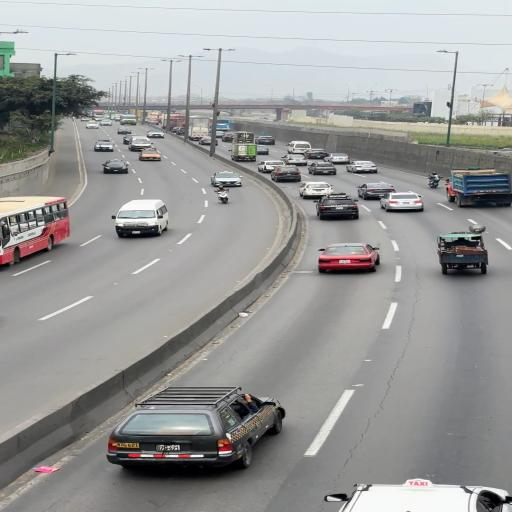auto: (101, 389, 275, 472), (328, 479, 510, 511), (316, 243, 380, 272), (315, 195, 359, 220), (378, 192, 424, 212), (356, 182, 395, 200), (210, 170, 243, 188), (298, 182, 334, 198), (271, 165, 302, 182), (101, 158, 129, 174), (306, 162, 337, 176), (346, 160, 378, 173), (286, 140, 311, 154), (129, 138, 153, 152), (282, 154, 310, 166), (258, 160, 282, 172), (325, 153, 350, 164), (138, 150, 162, 161), (305, 149, 330, 159), (94, 140, 114, 151), (146, 129, 165, 137), (256, 145, 269, 155), (222, 132, 237, 140), (254, 136, 266, 144), (86, 122, 99, 129), (214, 131, 224, 138)
bus: (0, 195, 70, 266), (112, 199, 171, 237), (160, 114, 187, 130), (188, 125, 210, 141), (120, 114, 138, 125), (147, 111, 162, 124), (216, 118, 230, 130), (92, 109, 105, 118)
camion: (446, 169, 512, 208), (436, 230, 490, 274), (230, 142, 258, 162), (232, 131, 254, 143)
moto: (214, 187, 230, 204), (427, 172, 442, 188)
